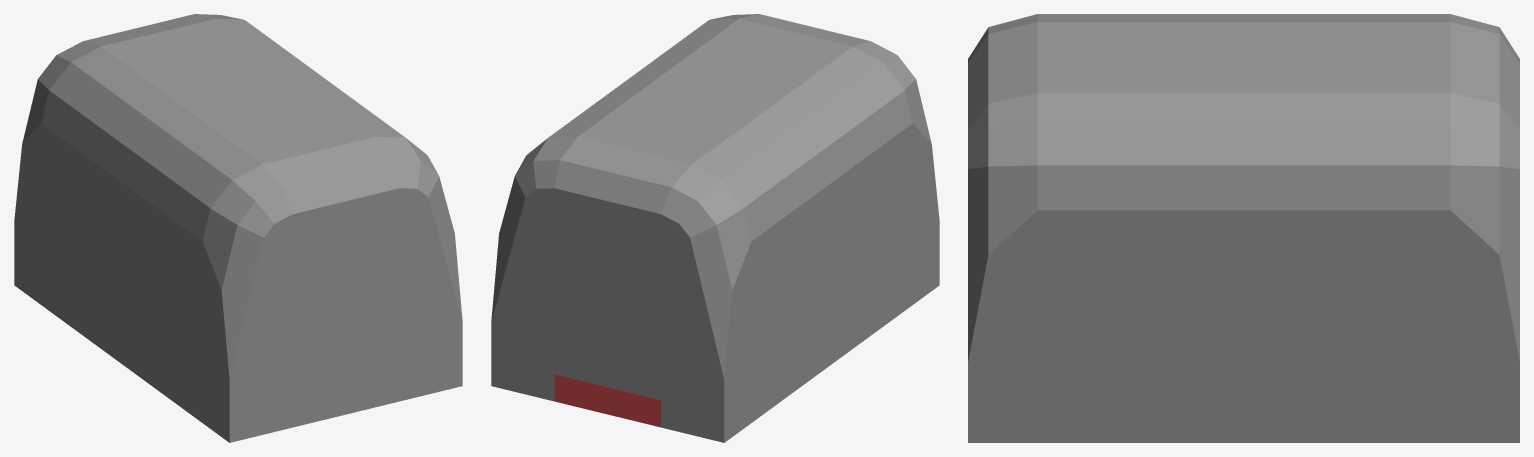
Rendered from CaixaComFundoFalso.fbx.
3 renders of one model, left to right at view 1: azimuth 30°, elevation 25°; view 2: azimuth 150°, elevation 25°; view 3: azimuth 270°, elevation 25°, orthographic. The views are drawn at different scales.
Parts seen in each view (by area): view 1: CorpoBau; view 2: CorpoBau, FundoFalso; view 3: CorpoBau.
Boxes of the visible parts, x1=… form: CorpoBau: x1=14, y1=14, x2=462, y2=442; CorpoBau: x1=491, y1=14, x2=939, y2=442; FundoFalso: x1=554, y1=375, x2=660, y2=427; CorpoBau: x1=968, y1=14, x2=1519, y2=442.
Size of the model in its own units: 50 by 50 by 80.
